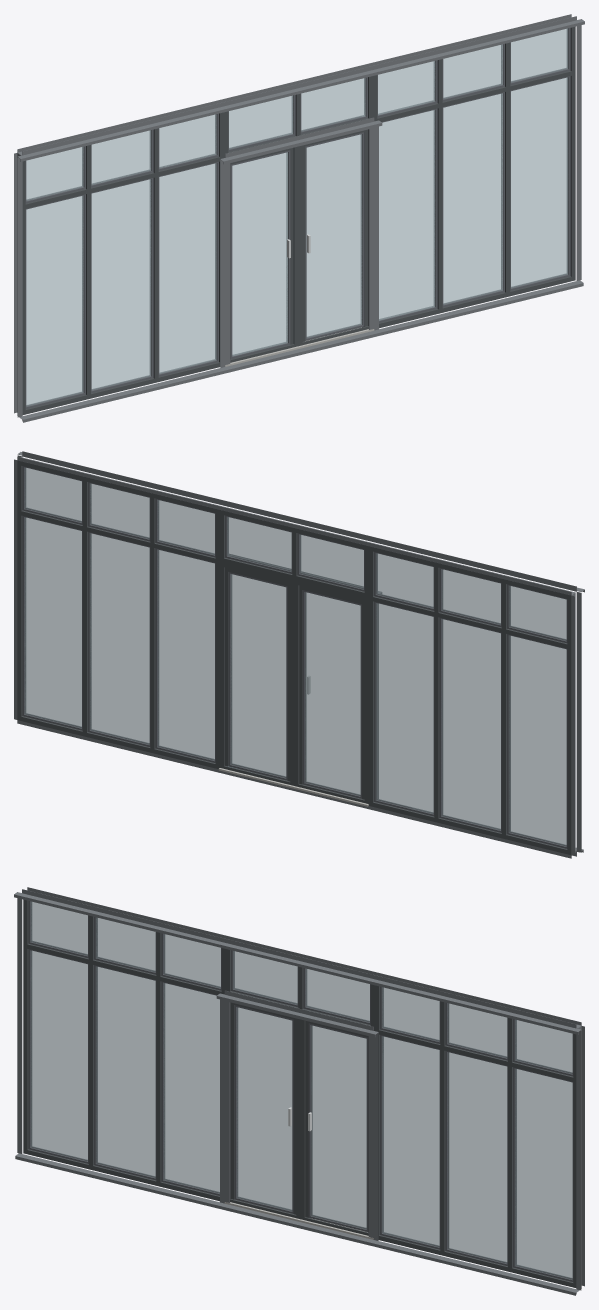
Rendered from Abertura_A2_lado_A_vidriera_con_puerta_6.82m.dae.
The picture shows the model from 3 angles, top to bottom: view 1: azimuth 30°, elevation 25°; view 2: azimuth 150°, elevation 25°; view 3: azimuth 330°, elevation 25°; orthographic projection.
Parts seen in each view (by area): view 1: Vidrio (×2), Contramarco (×2), Perfil aluminio (×2), Junquillo (×2), Umbral hormigon; view 2: Vidrio (×2), Perfil aluminio (×2), Junquillo (×2), Contramarco (×2), Umbral hormigon; view 3: Vidrio (×2), Contramarco (×2), Perfil aluminio (×2), Junquillo (×2), Umbral hormigon.
Boxes of the visible parts, box(x1,y1,x2,y2) form: Vidrio (×2): box(26, 28, 568, 406); Contramarco (×2): box(14, 14, 584, 422); Perfil aluminio (×2): box(22, 26, 575, 414); Junquillo (×2): box(25, 28, 570, 408); Umbral hormigon: box(225, 327, 374, 366); Vidrio (×2): box(24, 467, 566, 845); Perfil aluminio (×2): box(17, 460, 571, 855); Junquillo (×2): box(22, 466, 567, 848); Contramarco (×2): box(14, 451, 584, 858); Umbral hormigon: box(218, 768, 368, 806); Vidrio (×2): box(30, 901, 572, 1279); Contramarco (×2): box(14, 887, 584, 1295); Perfil aluminio (×2): box(23, 899, 576, 1287); Junquillo (×2): box(28, 901, 573, 1281); Umbral hormigon: box(224, 1202, 373, 1239).
Size of the model in its own units: 6.82 by 0.215 by 3.12.
